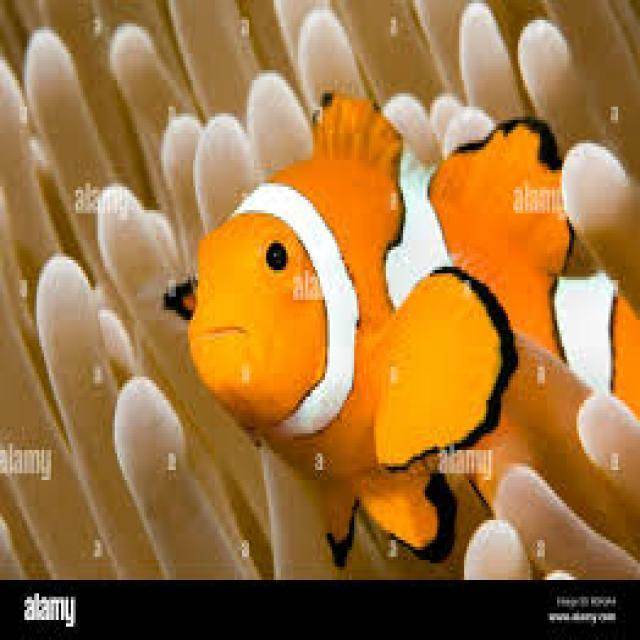ClownFish: (167, 93, 577, 558)
